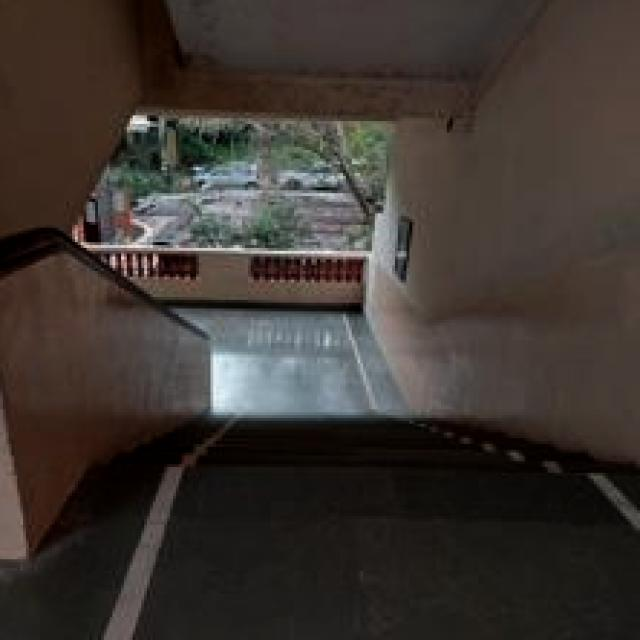downstair: (180, 385, 569, 535)
